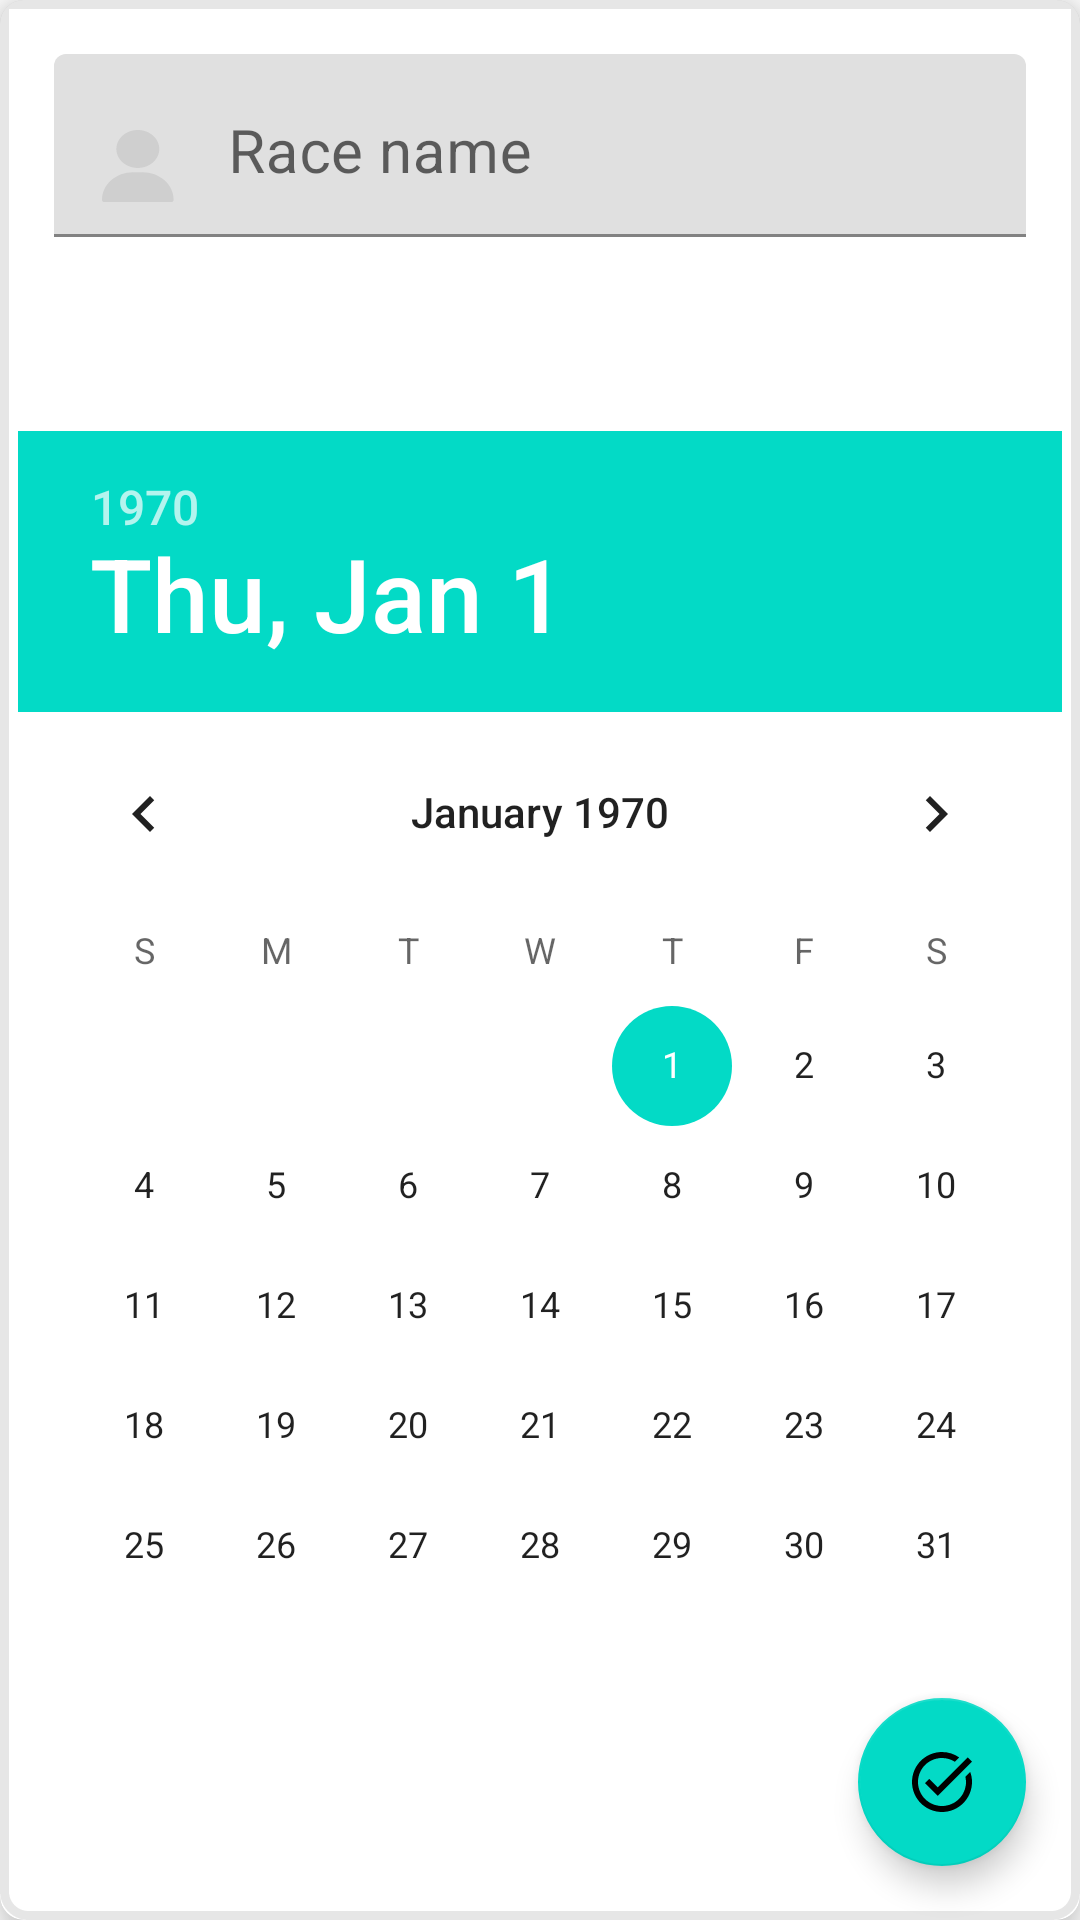

Icon click points for this 1080 x 1920 phone screenshot, format (x,y):
check: (942,1782)
